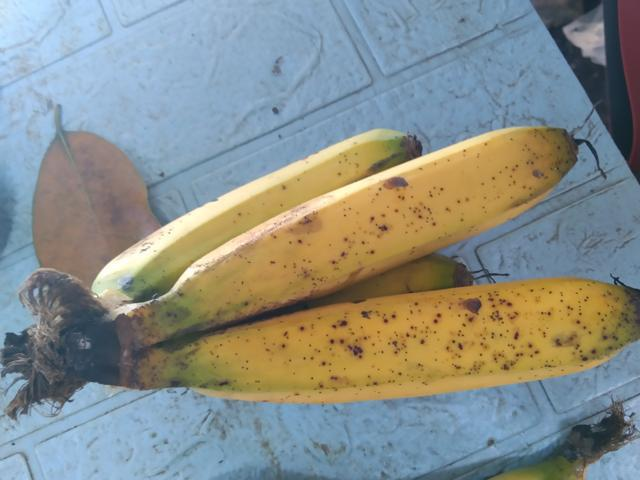ripe: (130, 114, 597, 337), (193, 269, 639, 414)
